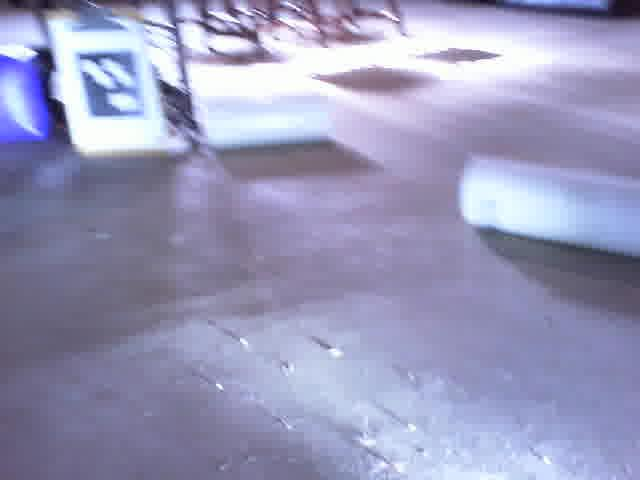coral: (459, 152, 640, 261), (205, 94, 334, 148)
